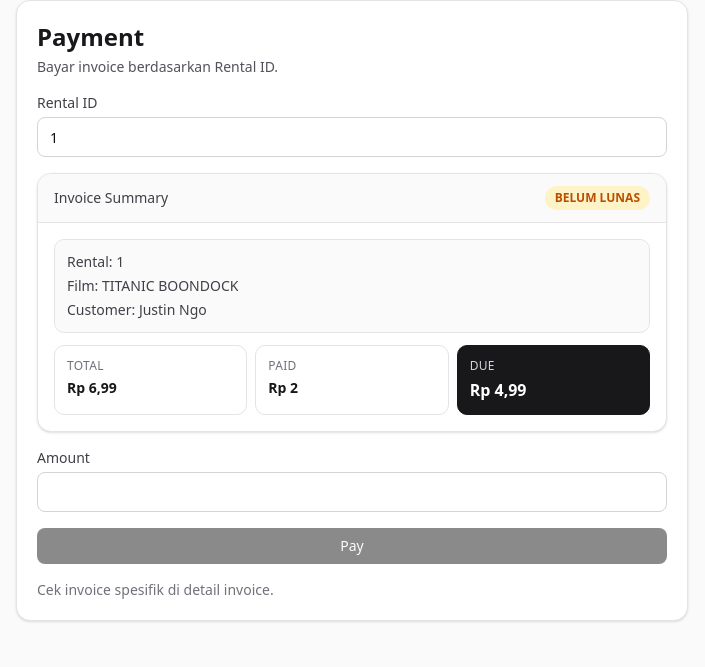
Test: Payments page › shows an error if user pays without active shift
Step 1. Type "1" into the number field labelled "Amount" → (352, 492), box [37, 472, 667, 512]
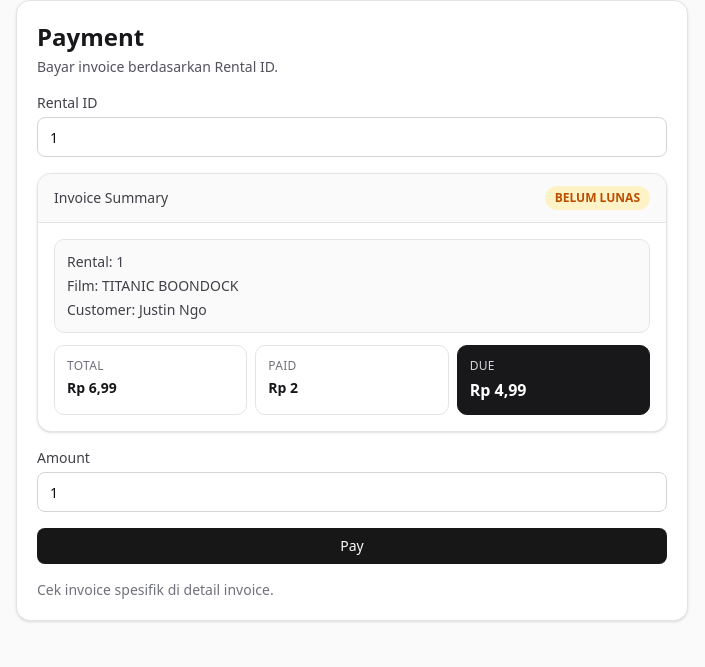
Step 2. Click the button "Pay" → (352, 546), box [37, 528, 667, 564]
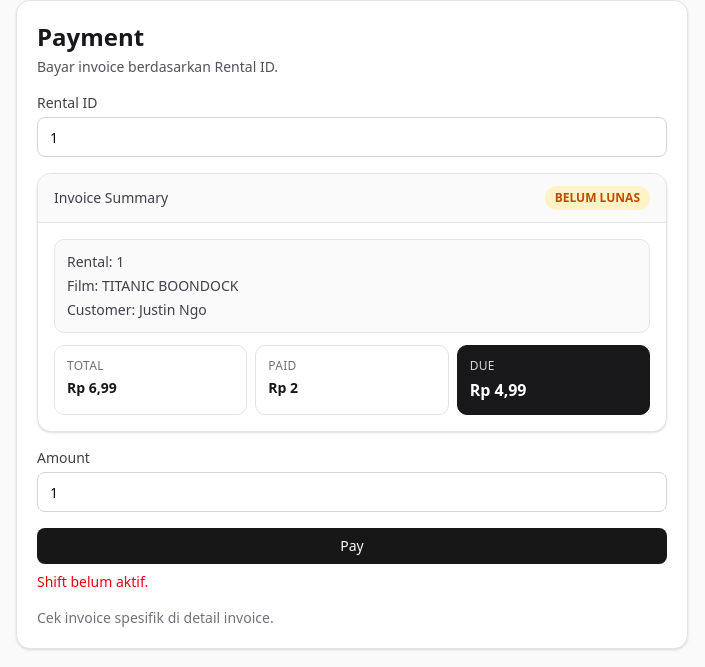
Now the text "Shift belum aktif." is shown, box [37, 572, 148, 591]
